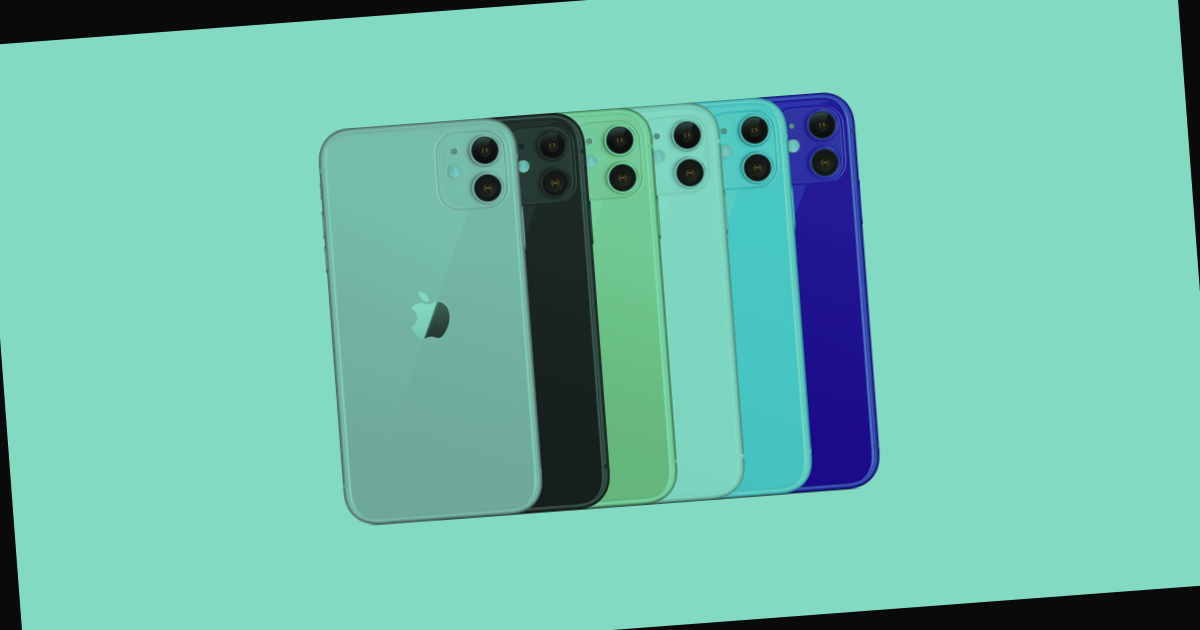iphone: (668, 112, 871, 507)
